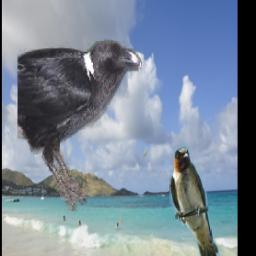Crow: (18, 39, 143, 213)
Swallow: (169, 144, 223, 256)
